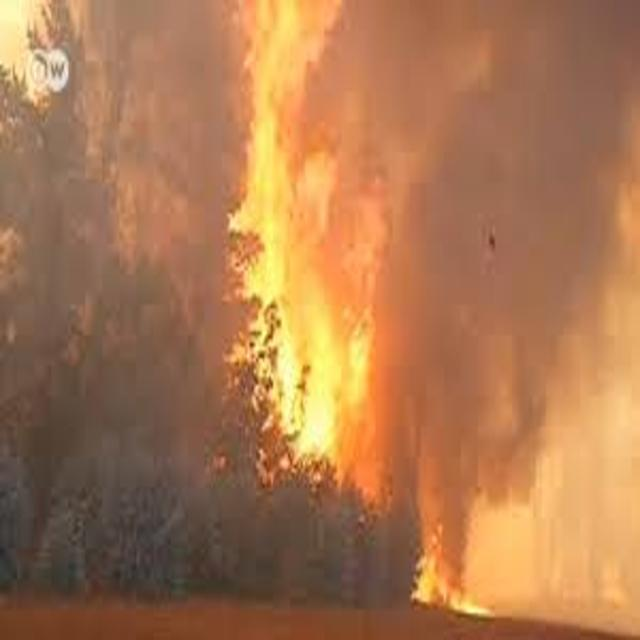Fire: (242, 0, 378, 485)
Smoke: (380, 0, 640, 554), (0, 0, 234, 476), (398, 519, 520, 640)
